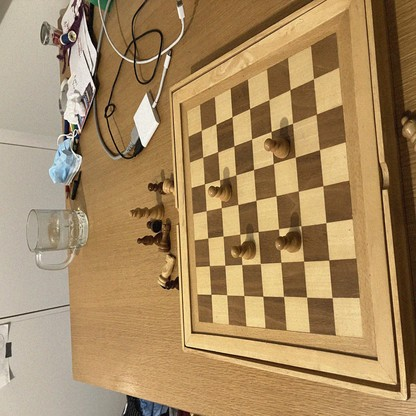bishop_black: (137, 235, 161, 245)
king_white: (129, 206, 165, 219)
knight_white: (158, 254, 178, 287)
pawn_black: (148, 182, 165, 195), (146, 219, 160, 232)
pawn_white: (275, 231, 300, 252), (264, 140, 291, 159), (231, 241, 256, 260), (208, 185, 232, 204)
rock_black: (158, 219, 172, 252)
